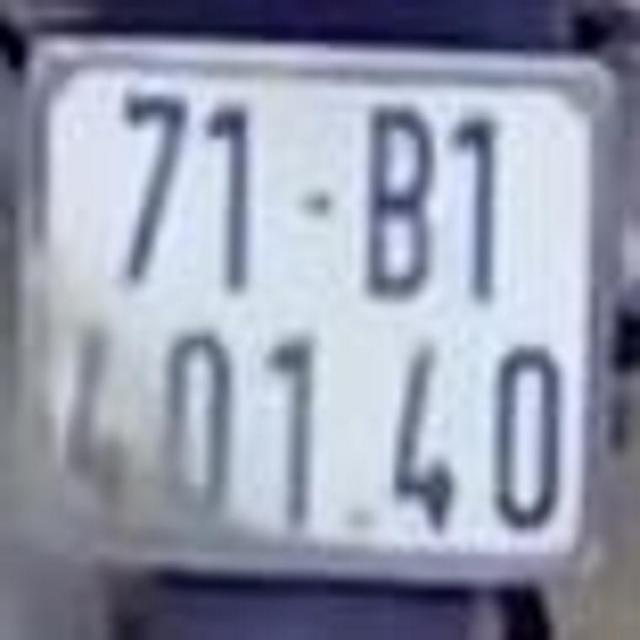0: (154, 324, 237, 516), (490, 335, 565, 532)
1: (254, 320, 318, 522), (198, 89, 260, 290), (447, 103, 507, 298)
4: (374, 330, 461, 545), (62, 318, 136, 516)
7: (114, 84, 193, 287)
B: (359, 95, 437, 308)
